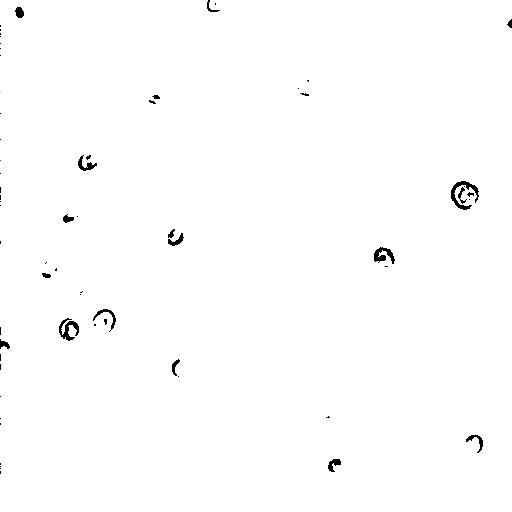micro-algae: (217, 213, 264, 263), (0, 1, 39, 33), (304, 1, 363, 22), (31, 250, 65, 283), (448, 179, 481, 212), (55, 201, 87, 233), (370, 243, 396, 269), (291, 75, 319, 99), (493, 2, 511, 39), (90, 307, 115, 333), (464, 431, 486, 459), (58, 317, 81, 341), (1, 330, 16, 365), (164, 224, 187, 246), (75, 281, 96, 303), (172, 355, 192, 377), (78, 153, 99, 170), (326, 455, 344, 472), (204, 1, 226, 11)
